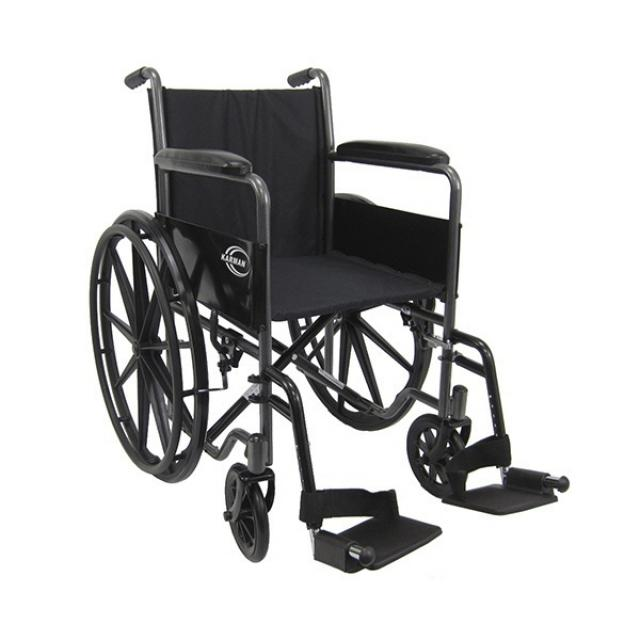wheelchair: (77, 44, 584, 585)
